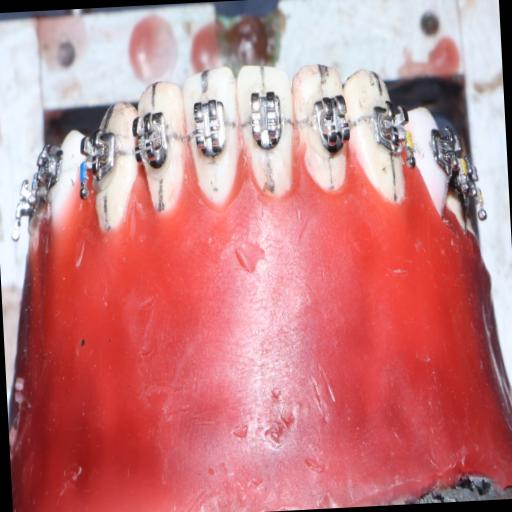incorrect_brace: (188, 96, 230, 160)
